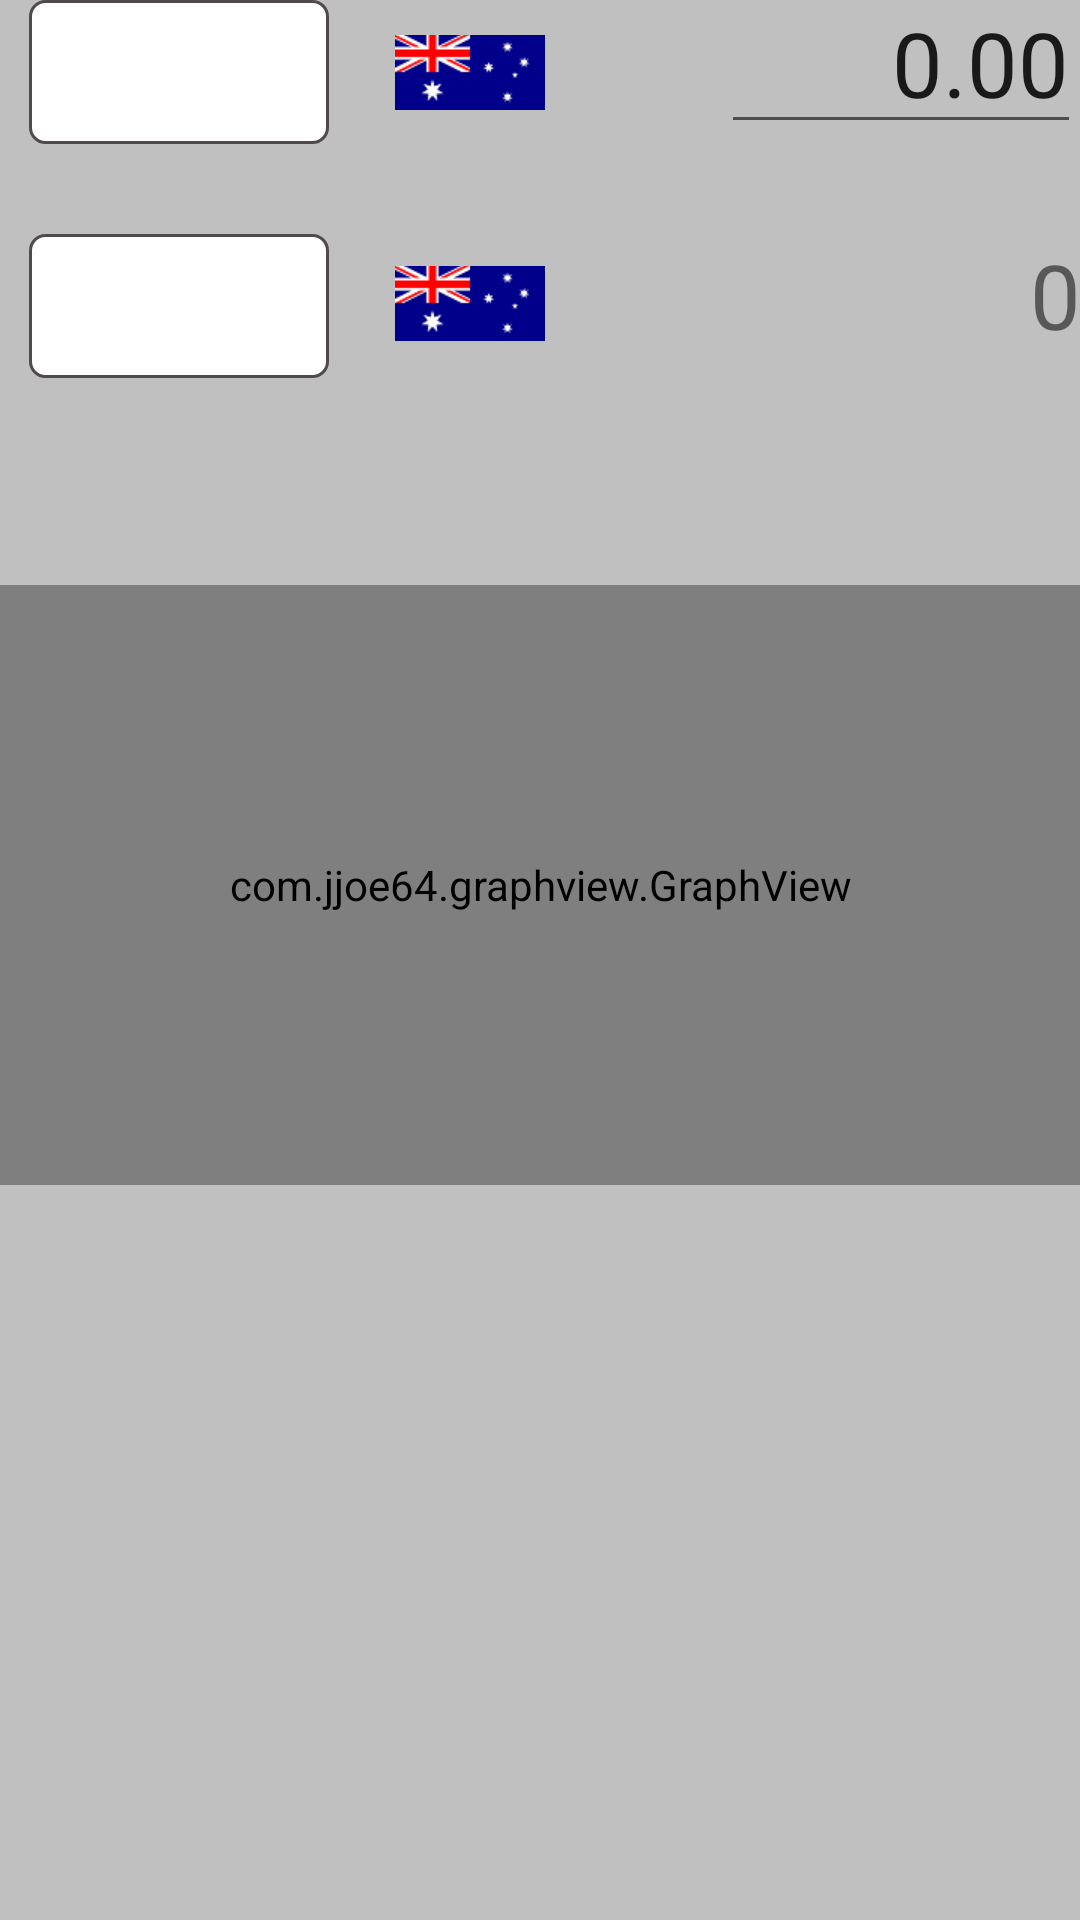

Icon bounding boxes for this 1080×1920 phone screenshot, format bbox(x1, y1, x2, y2):
aud: bbox(395, 35, 545, 110), bbox(395, 266, 545, 341)
